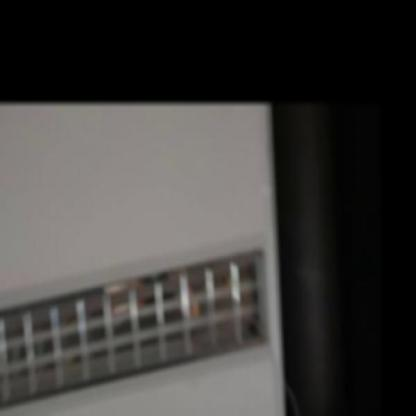light_off: (0, 228, 279, 414)
